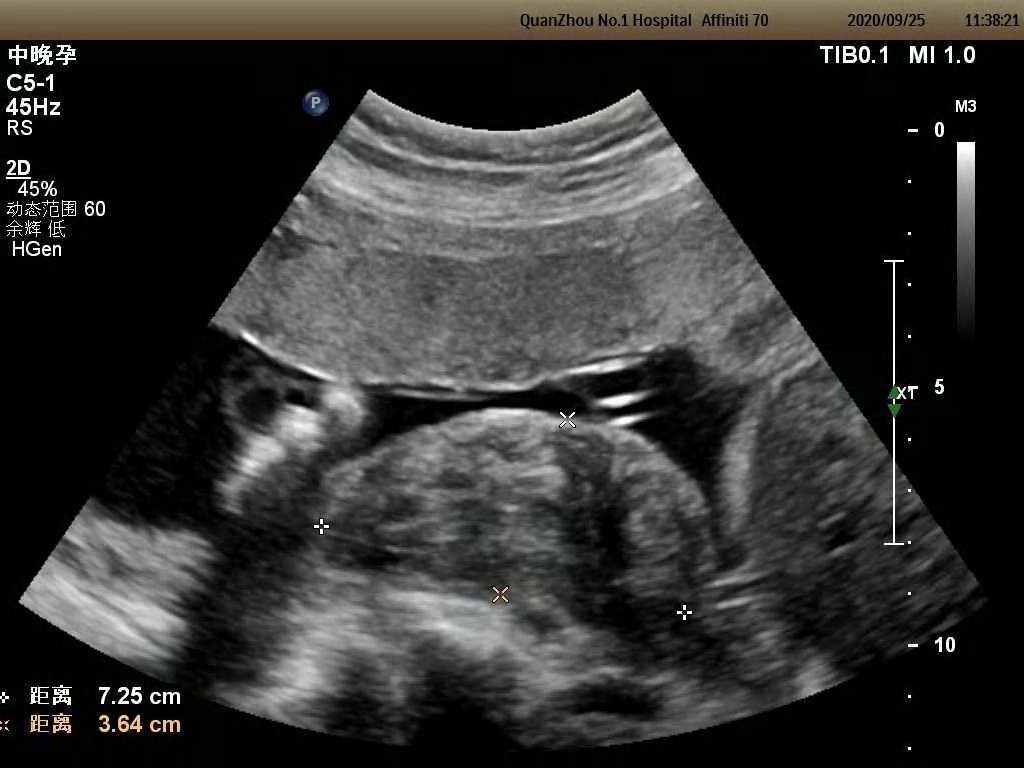肌瘤: (325, 417, 700, 619)
